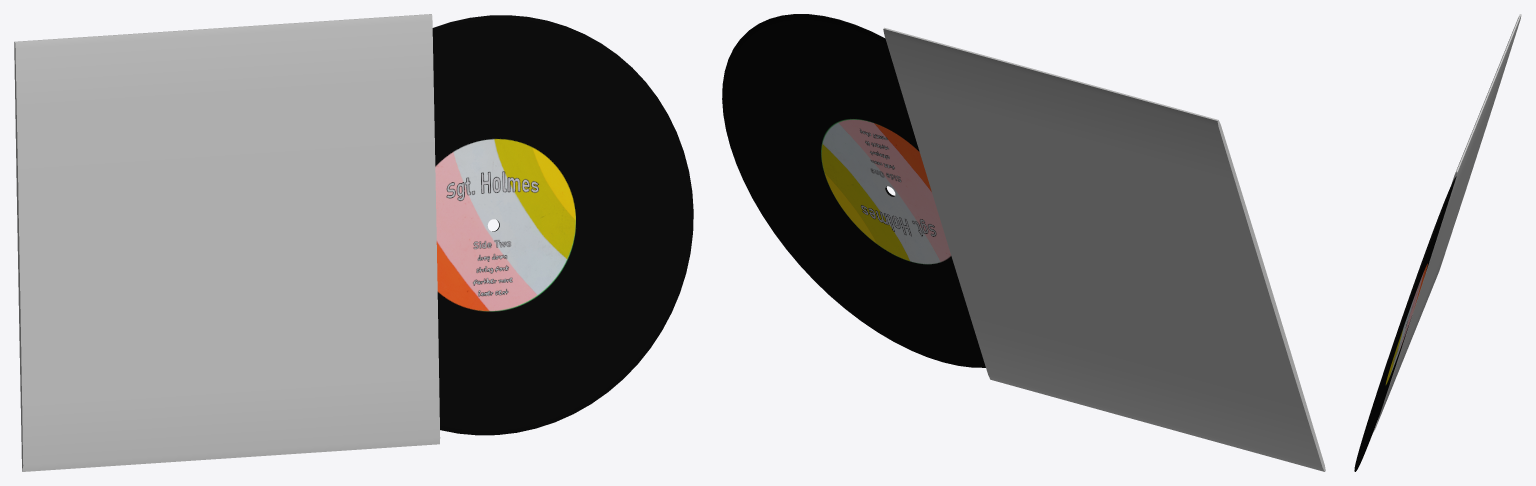
3 renders of one model, left to right at view 1: azimuth 30°, elevation 25°; view 2: azimuth 150°, elevation 25°; view 3: azimuth 270°, elevation 25°, orthographic. The views are drawn at different scales.
Parts seen in each view (by area): view 1: VinylRecordSgtHolmesSleeve_VinylRecordSgtHolmesSleeve_0, VinylRecordSgtHolmes; view 2: VinylRecordSgtHolmesSleeve_VinylRecordSgtHolmesSleeve_0, VinylRecordSgtHolmes; view 3: VinylRecordSgtHolmesSleeve_VinylRecordSgtHolmesSleeve_0, VinylRecordSgtHolmes.
Boxes of the visible parts, x1,y1,x2,y2 form: VinylRecordSgtHolmesSleeve_VinylRecordSgtHolmesSleeve_0: (14,14,440,471); VinylRecordSgtHolmes: (432,15,693,435); VinylRecordSgtHolmesSleeve_VinylRecordSgtHolmesSleeve_0: (883,27,1325,471); VinylRecordSgtHolmes: (722,14,985,367); VinylRecordSgtHolmesSleeve_VinylRecordSgtHolmesSleeve_0: (1373,14,1521,432); VinylRecordSgtHolmes: (1354,176,1456,471).
Size of the model in its own units: 0.4286 by 0.2655 by 0.1332.
